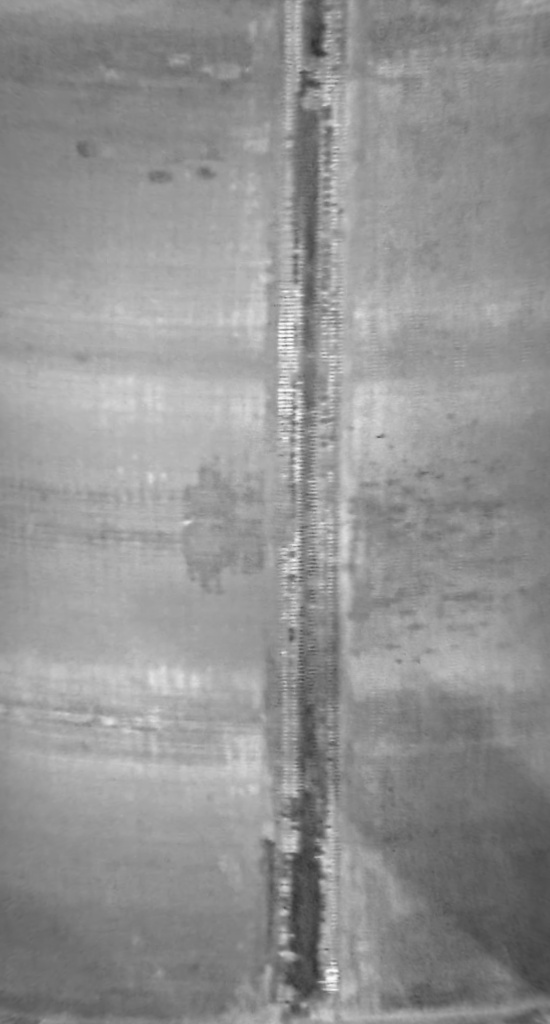splice: (261, 4, 358, 1024)
